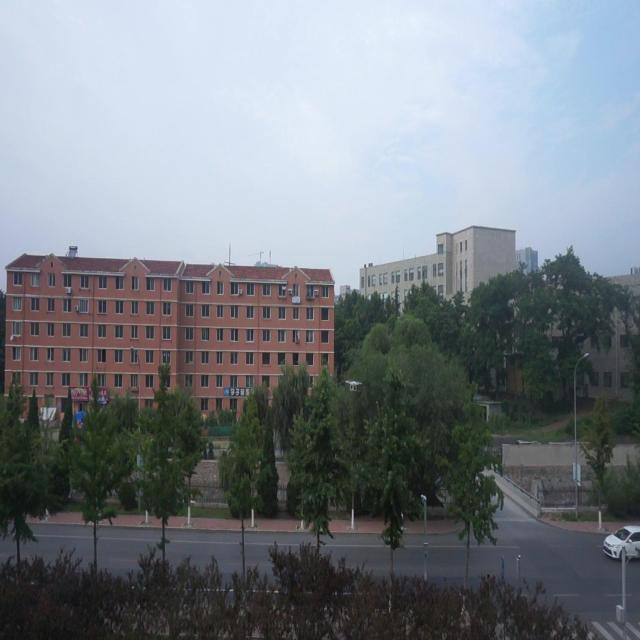drone: (343, 374, 362, 396)
